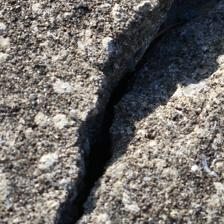Crack: (28, 4, 165, 215)
